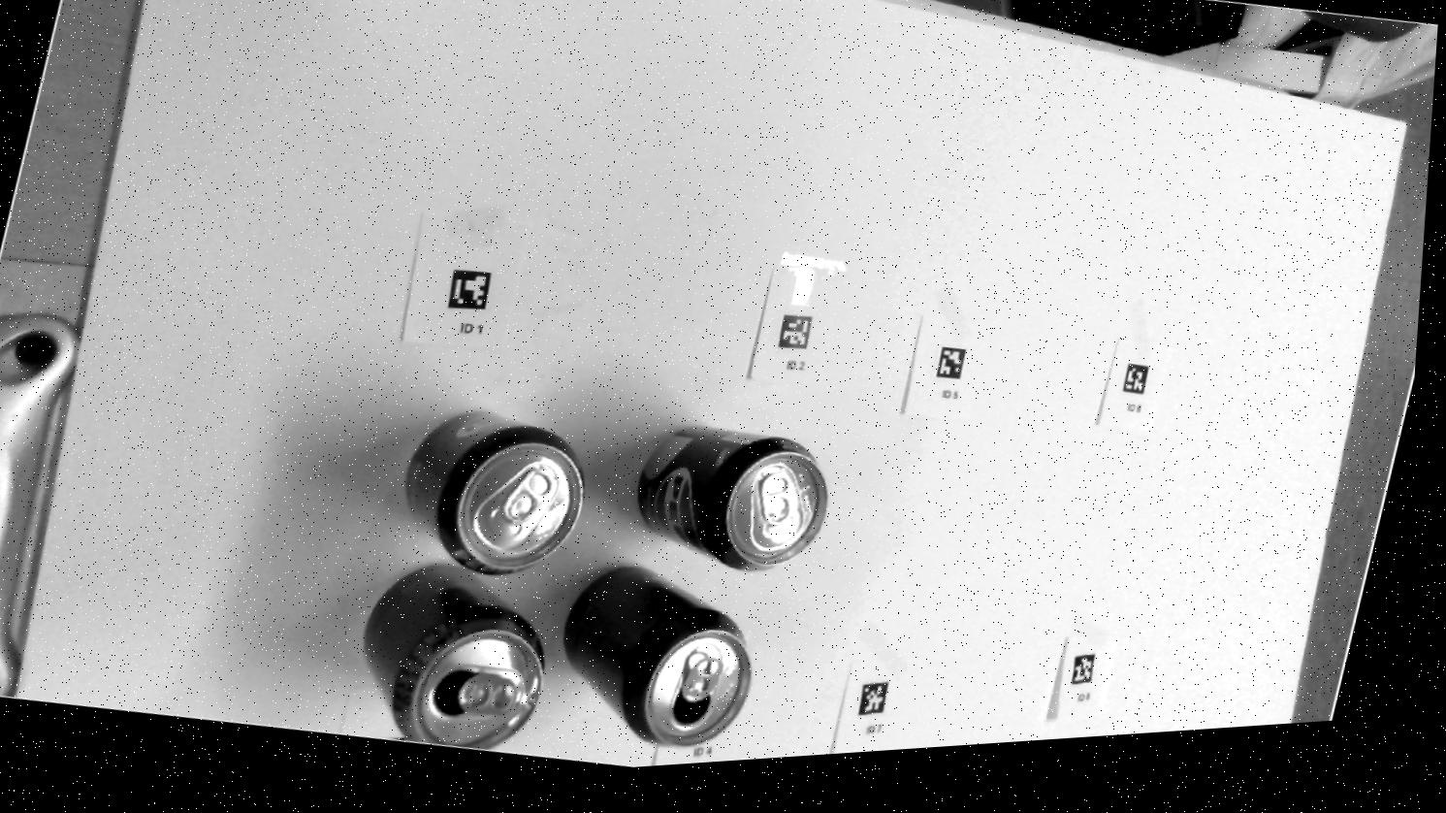can_coke_decaf: (362, 563, 542, 747)
can_coke_zero: (563, 566, 750, 745)
can_pepsi: (405, 412, 583, 574)
can_pepsi_zero: (636, 426, 826, 571)
